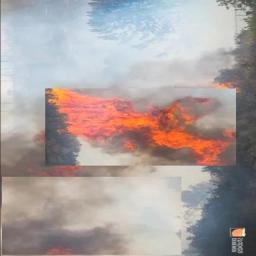Low smoke: (2, 1, 237, 82), (5, 155, 172, 256)
Medium fire: (45, 88, 233, 163)
